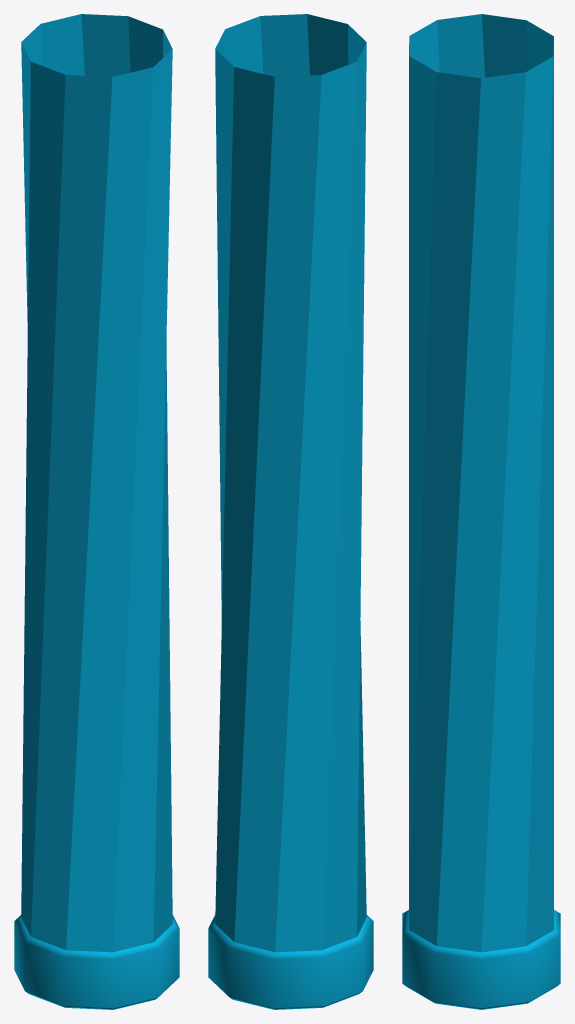
File: pipe_top.fbx
The picture shows the model from 3 angles, left to right: view 1: azimuth 30°, elevation 25°; view 2: azimuth 150°, elevation 25°; view 3: azimuth 270°, elevation 25°; orthographic projection.
Visible parts, largest first — view 1: pipe_top; view 2: pipe_top; view 3: pipe_top.
Boxes of the visible parts, left/top/right/bottom form: pipe_top: left=14, top=14, right=179, bottom=1009; pipe_top: left=208, top=14, right=373, bottom=1009; pipe_top: left=402, top=14, right=560, bottom=1009.
Bounding box in the file's own units: 9 × 55.56 × 8.56.
